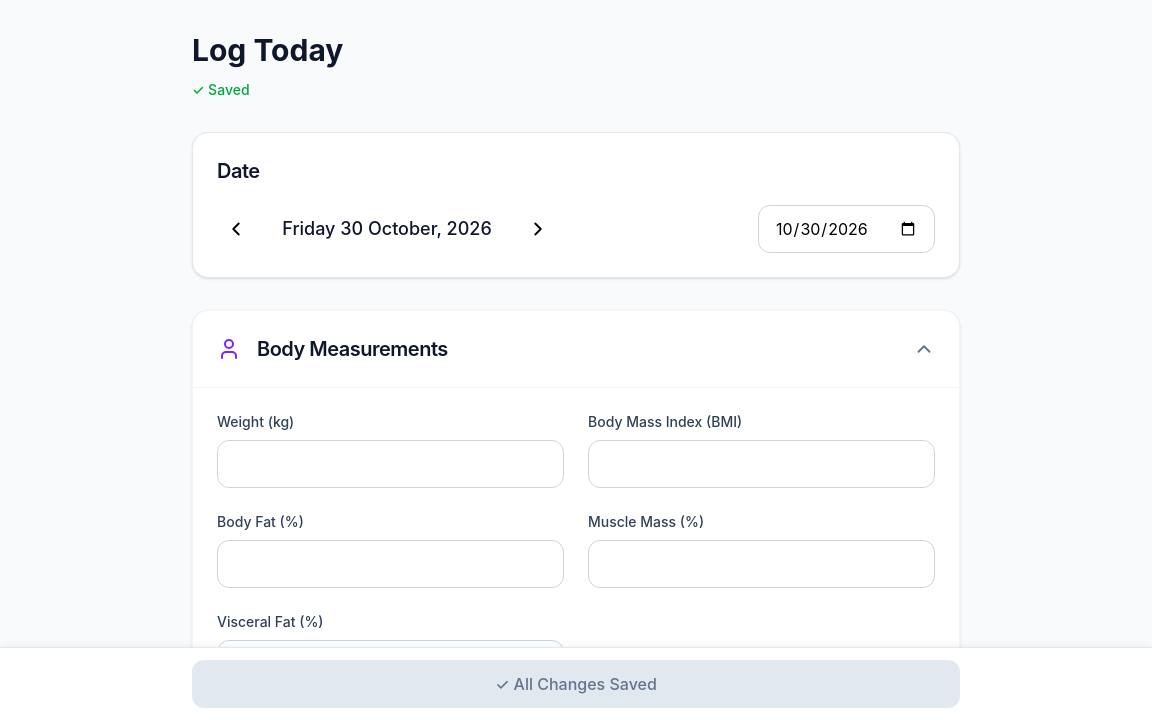
Test: LogBodyMeasurements › marks page dirty when measurements change
Type "18.5" into the number field labelled "Body Fat (%)" at (390, 564), box [217,540,564,588]
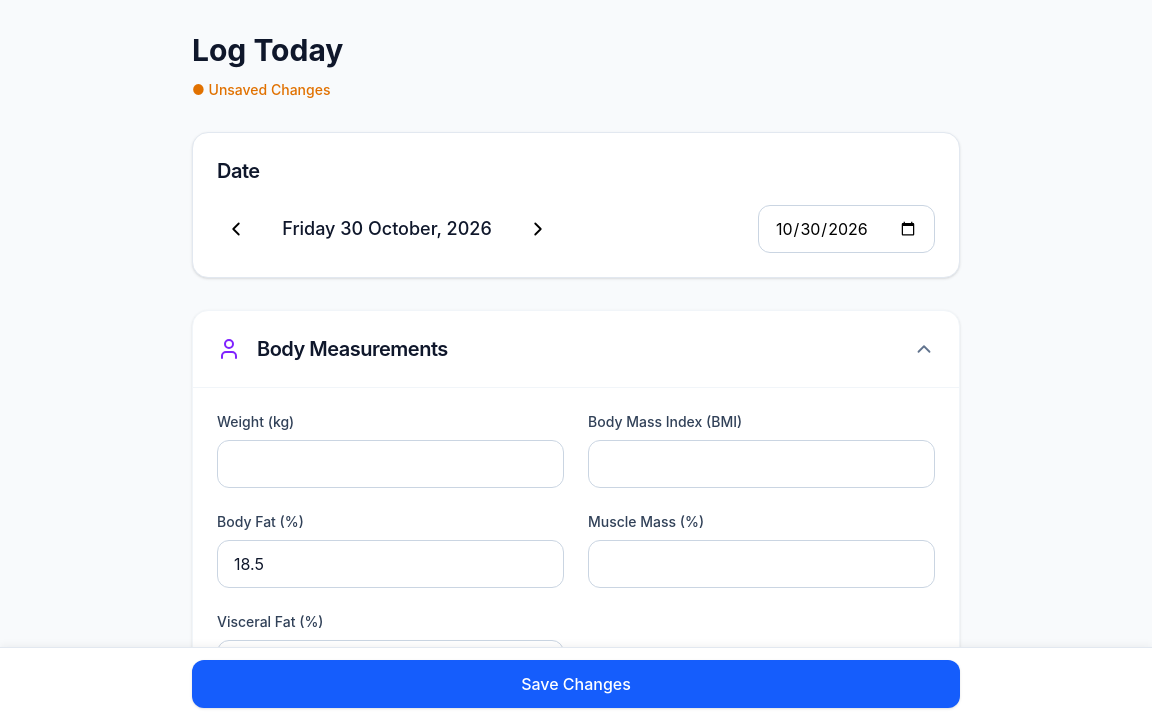
Expected: the text "● Unsaved Changes" is shown, [192,80,330,100]
